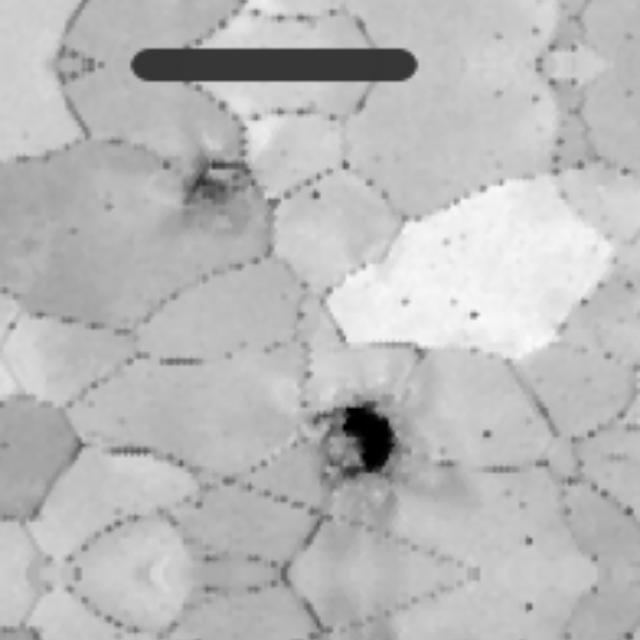good_void: (302, 374, 458, 526), (165, 155, 266, 230), (517, 530, 543, 559), (517, 591, 543, 620), (475, 423, 500, 449), (393, 293, 416, 316), (462, 307, 485, 328), (304, 187, 327, 208), (290, 308, 309, 328), (526, 92, 543, 107), (526, 24, 543, 39)
